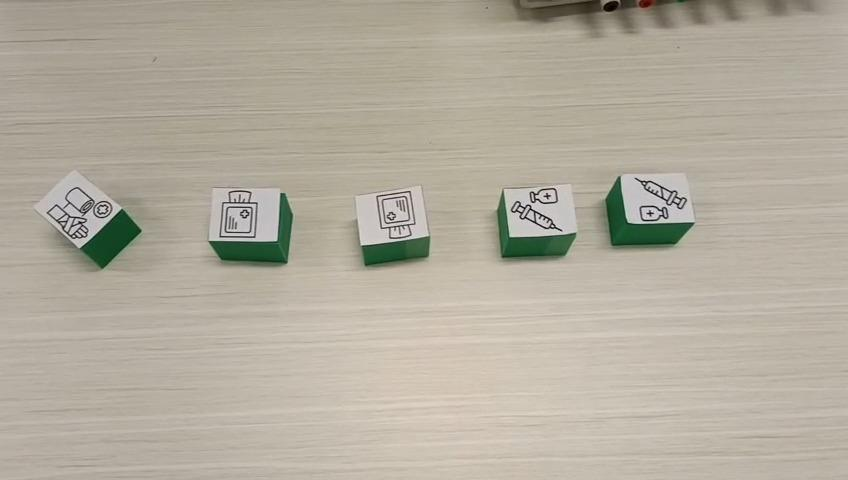Bandages: (30, 169, 142, 269)
Gauze: (208, 186, 294, 263), (352, 184, 430, 265)
antiseptic cream: (605, 170, 696, 245), (495, 182, 577, 257)
